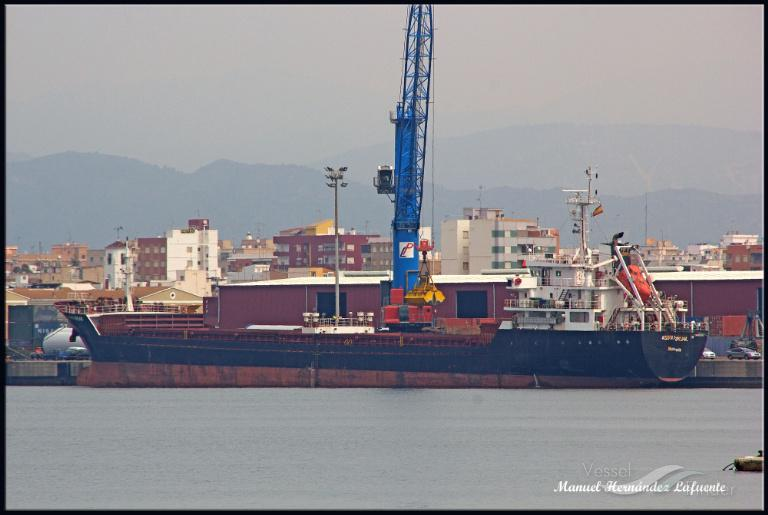OCR: (645, 329, 694, 361)
